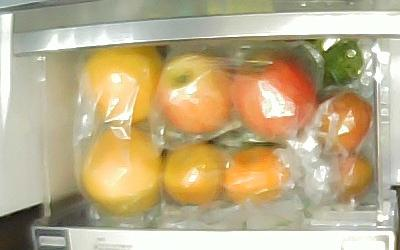apple_vinyl: (230, 53, 315, 140), (156, 54, 232, 134)
grapefruit_vinyl: (83, 127, 162, 212), (85, 45, 165, 124)
persimmon_vinyl: (161, 143, 226, 205), (223, 145, 290, 204)
prune_vinyl: (318, 92, 372, 155), (332, 155, 372, 201)
